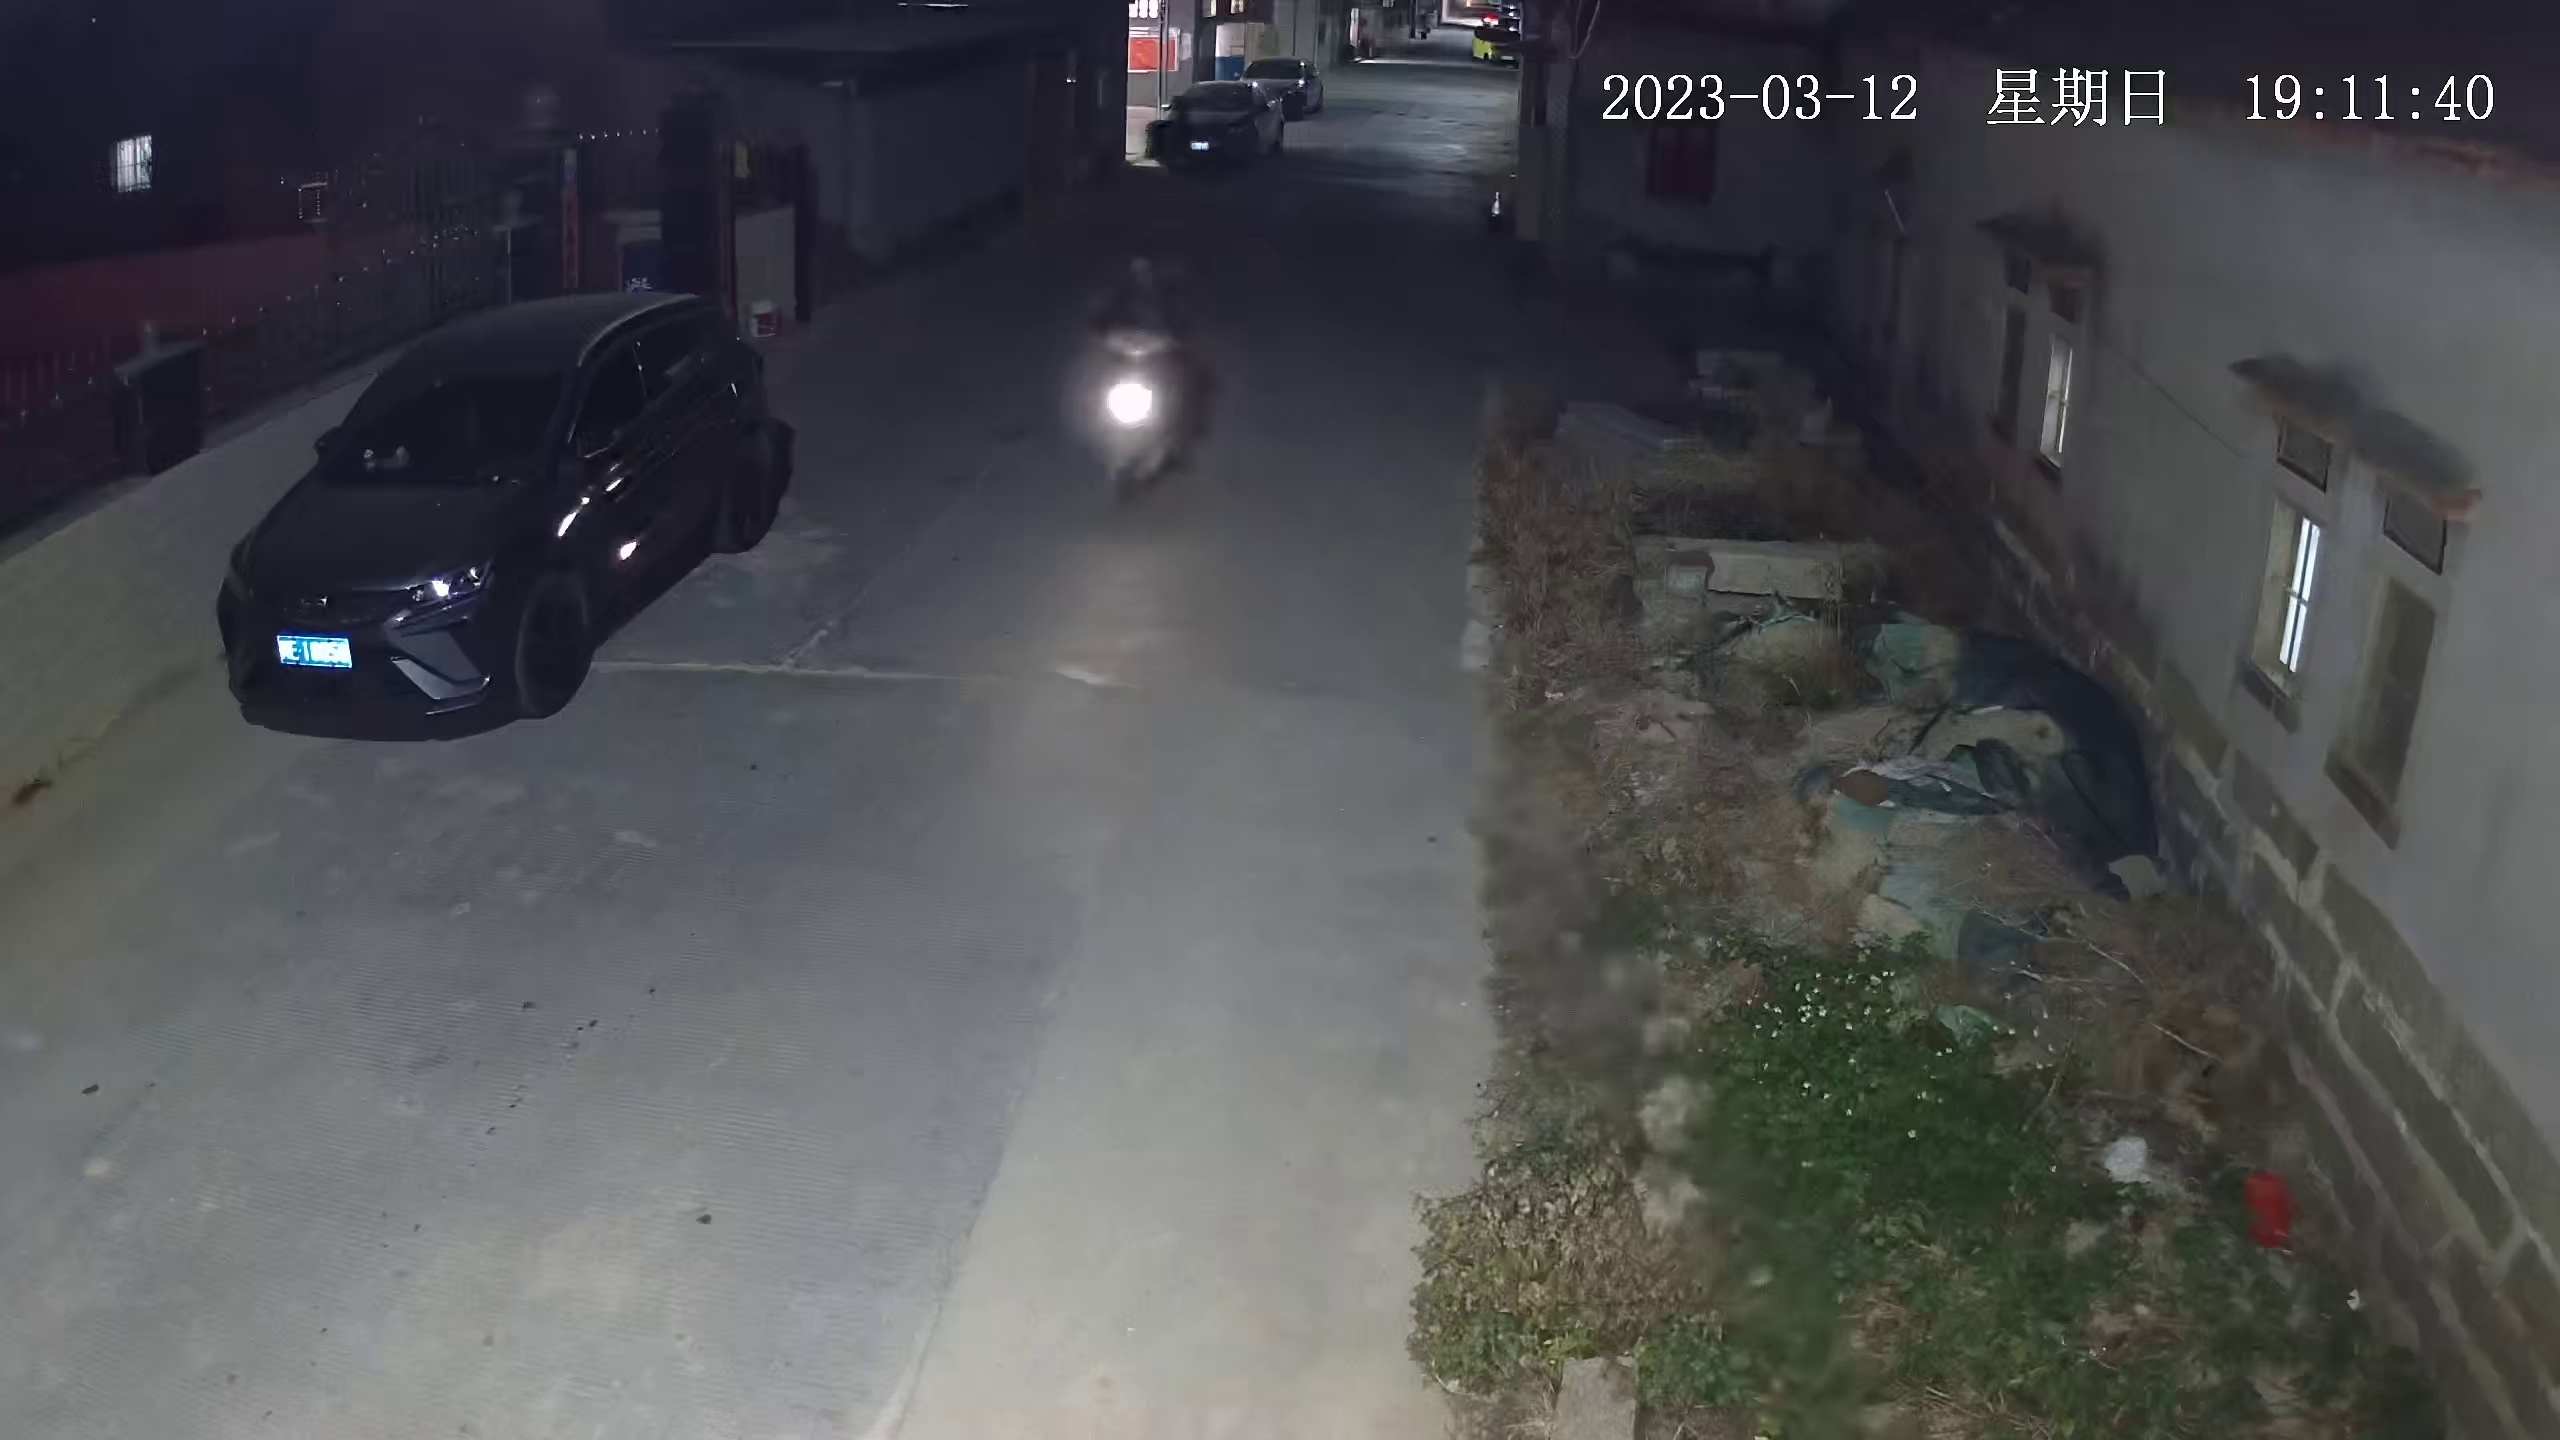motorcycle: (1080, 243, 1194, 535)
sedan: (1157, 79, 1282, 169), (1245, 53, 1319, 98), (1468, 19, 1524, 69)
suv: (230, 285, 765, 742)
